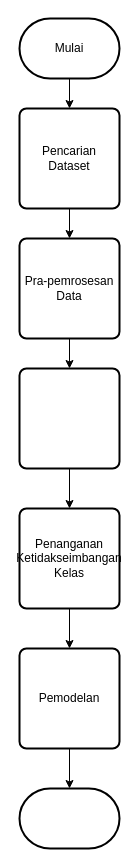
The diagram is 139 pixels wide and 866 high, and some of its shapes have lost their labels. Each missing label, with the centre of its shape:
Pembagian Data: (69,418)
Selesai: (69,818)
